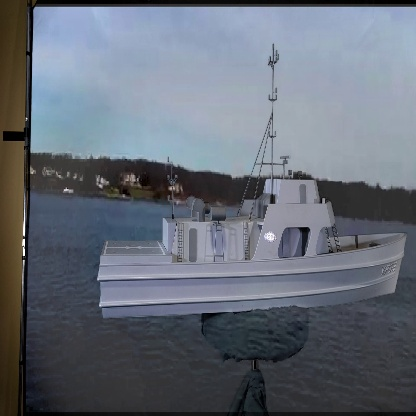YP689: (95, 44, 408, 321)
